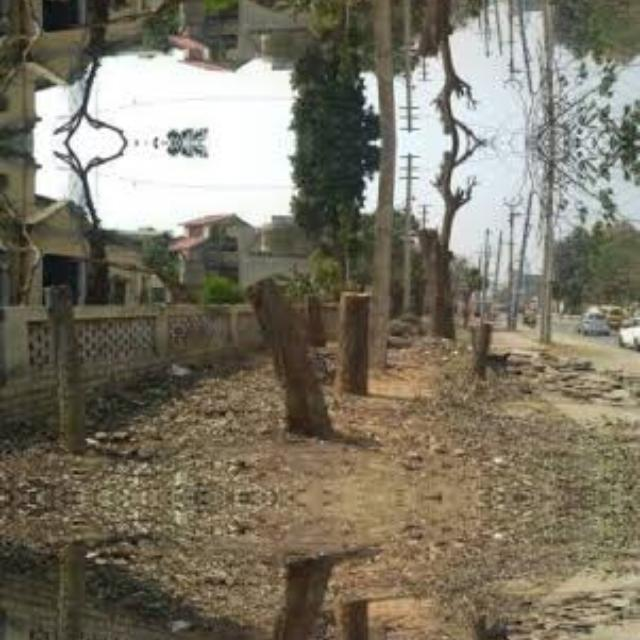obstacle: (354, 170, 412, 370), (520, 175, 574, 342), (354, 0, 412, 114), (519, 0, 574, 108), (354, 624, 412, 640)
